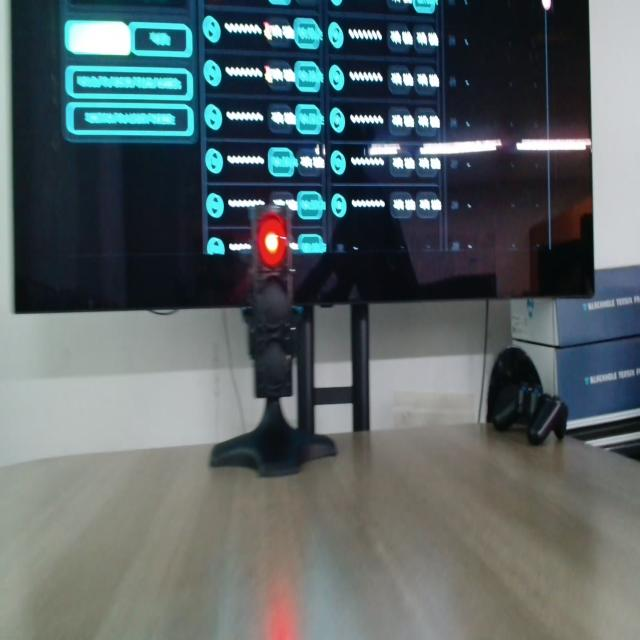red_light: (258, 214, 287, 267)
